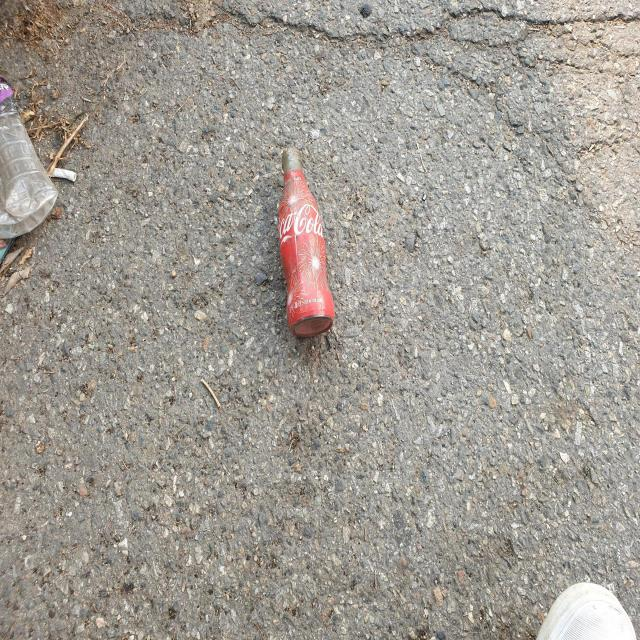glass: (278, 147, 335, 338)
plastic: (0, 76, 57, 260)
